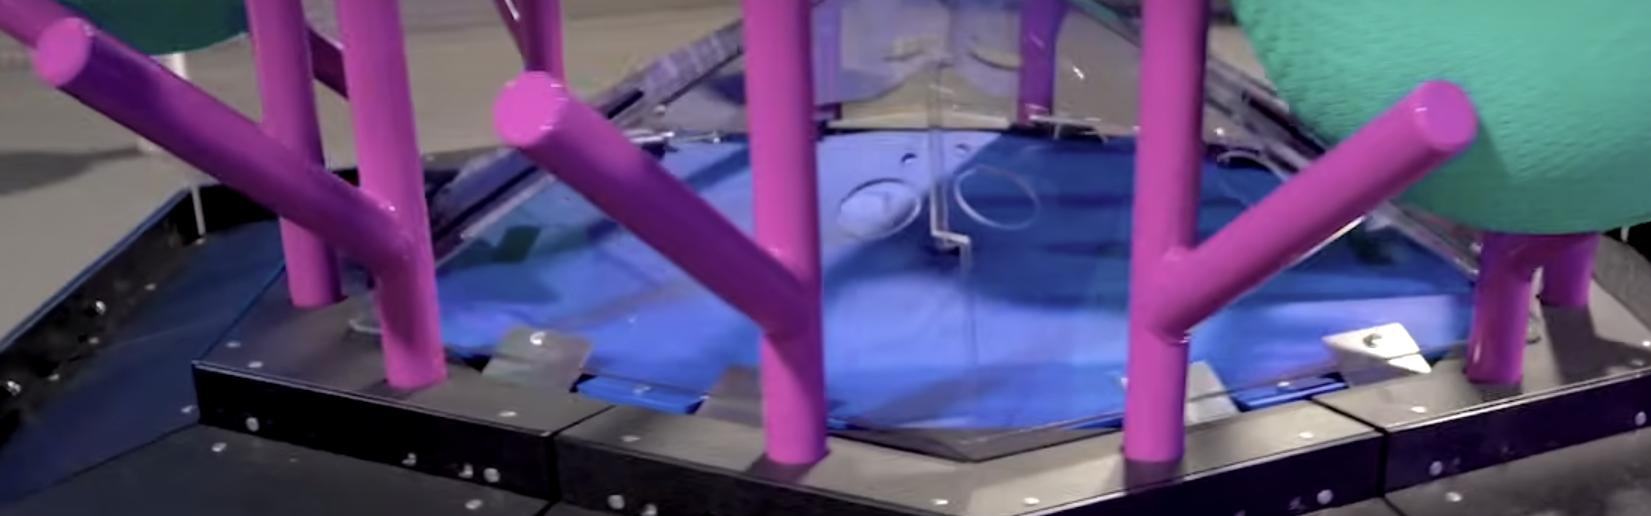algae: (1228, 0, 1650, 236), (53, 0, 250, 56)
coral: (128, 52, 188, 154)
